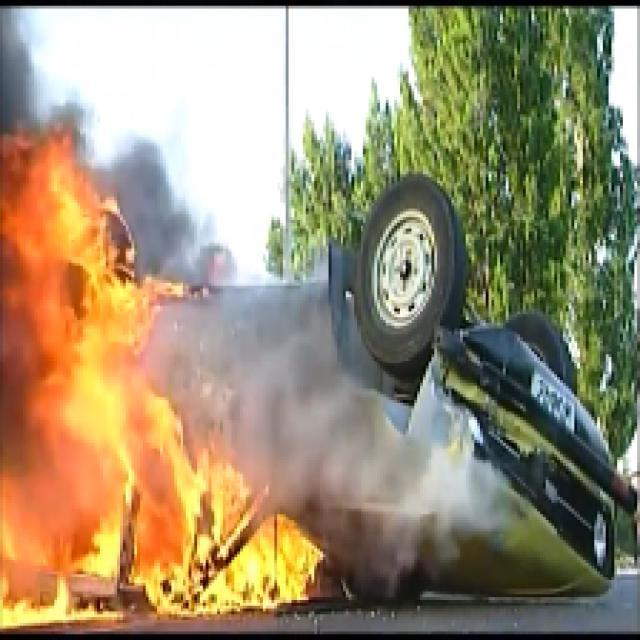Fire: (3, 128, 323, 620)
Smoke: (228, 300, 378, 494)
